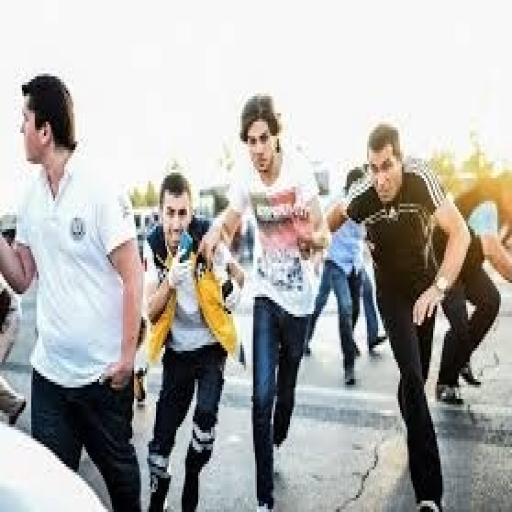running: (2, 71, 147, 509), (325, 119, 473, 509), (196, 91, 332, 509), (141, 170, 246, 509)
